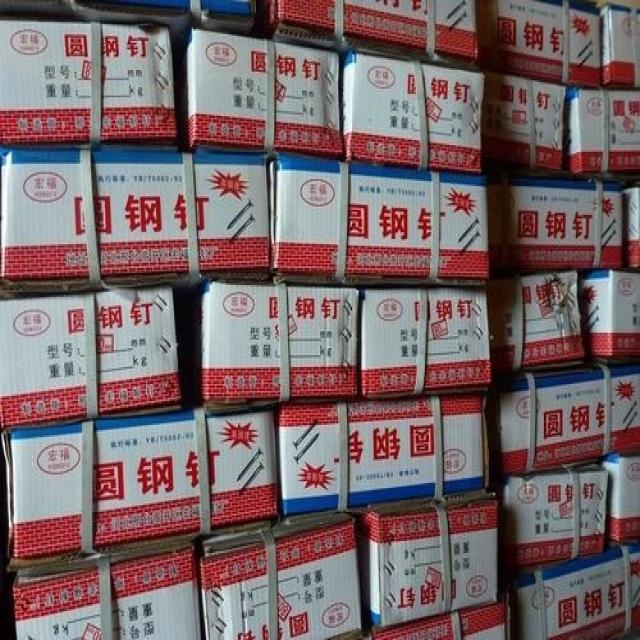box: (1, 397, 283, 561), (2, 148, 274, 284), (271, 150, 488, 282), (278, 389, 489, 518), (1, 280, 181, 427), (0, 19, 177, 148), (344, 489, 498, 633), (171, 32, 344, 155), (196, 511, 364, 637), (190, 285, 363, 400), (10, 537, 203, 638), (339, 52, 483, 173), (493, 364, 639, 481), (359, 284, 492, 393), (264, 3, 477, 69), (489, 171, 624, 273), (505, 536, 639, 638), (492, 459, 609, 572), (489, 270, 584, 376), (483, 72, 567, 175), (567, 84, 639, 176), (71, 1, 259, 35), (364, 601, 508, 638), (579, 270, 638, 359), (603, 452, 639, 545), (602, 6, 639, 87), (624, 171, 639, 270)
